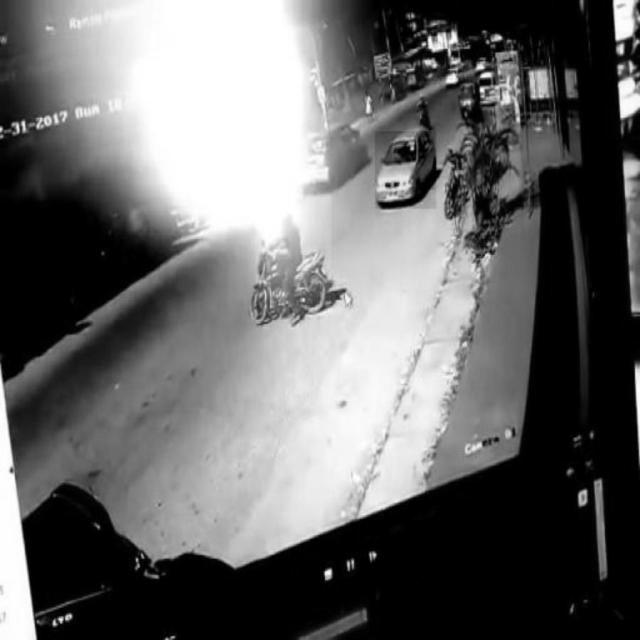vehicle: (255, 194, 331, 316), (375, 132, 436, 209)
